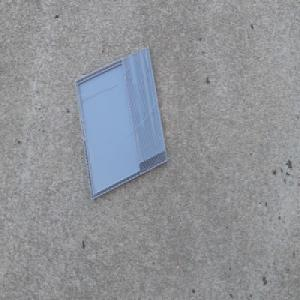PlasticPart: (73, 45, 168, 201)
